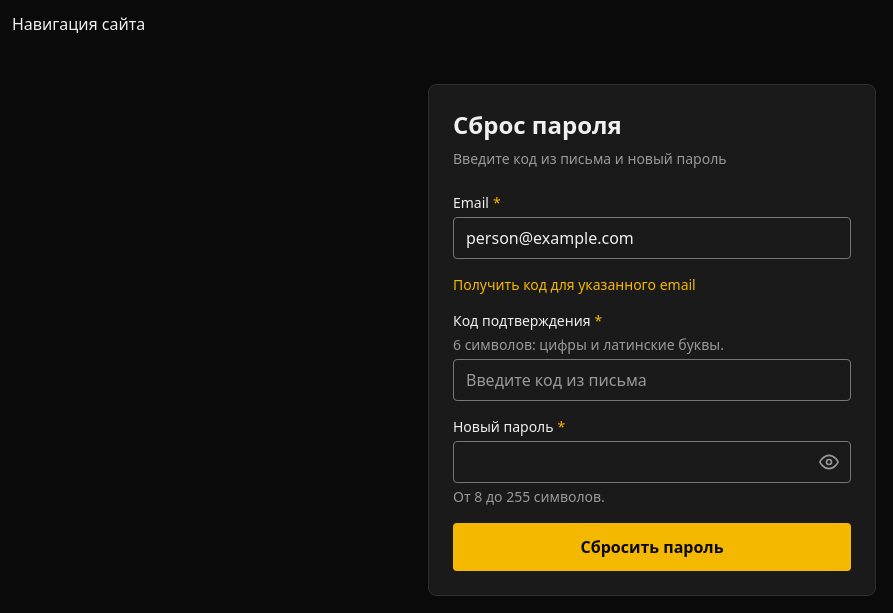
auth completion and retained context › keeps an external focus when password reset completes after the user left the form
In the field with id "reset-code": point(652, 380) [453,359,851,401], type "a1b2c3"
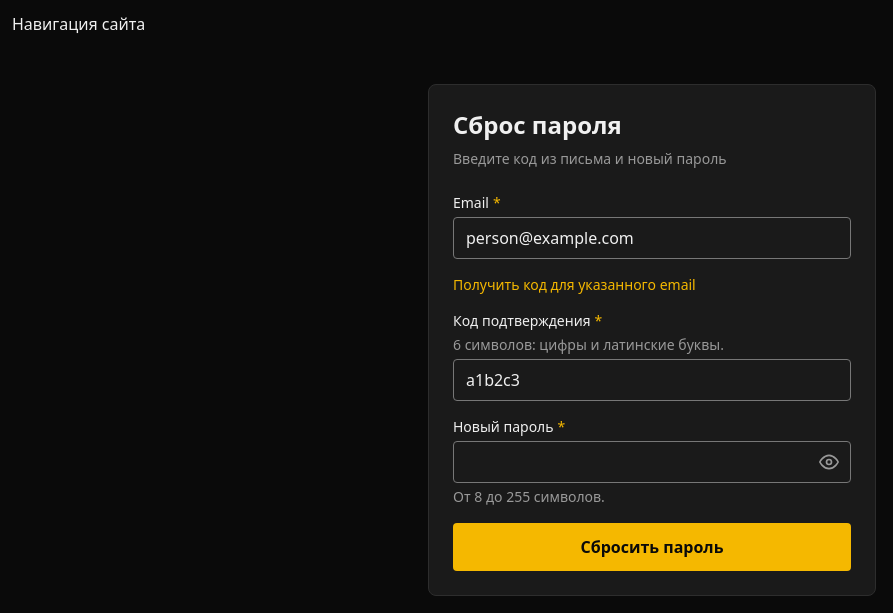
In the password field with id "reset-new-password": point(652, 462) [453,441,851,483], type "password123"
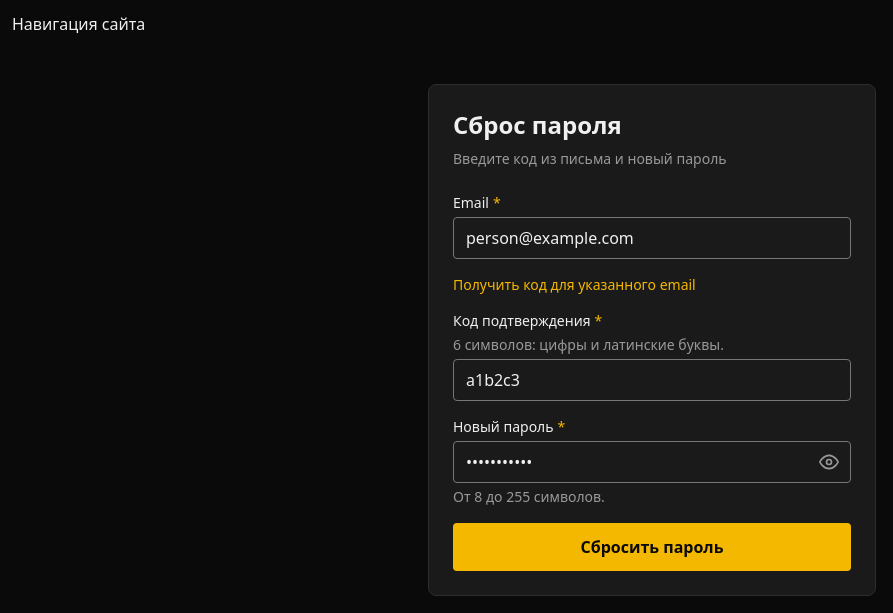
Submit the form, box [453,193,851,571]
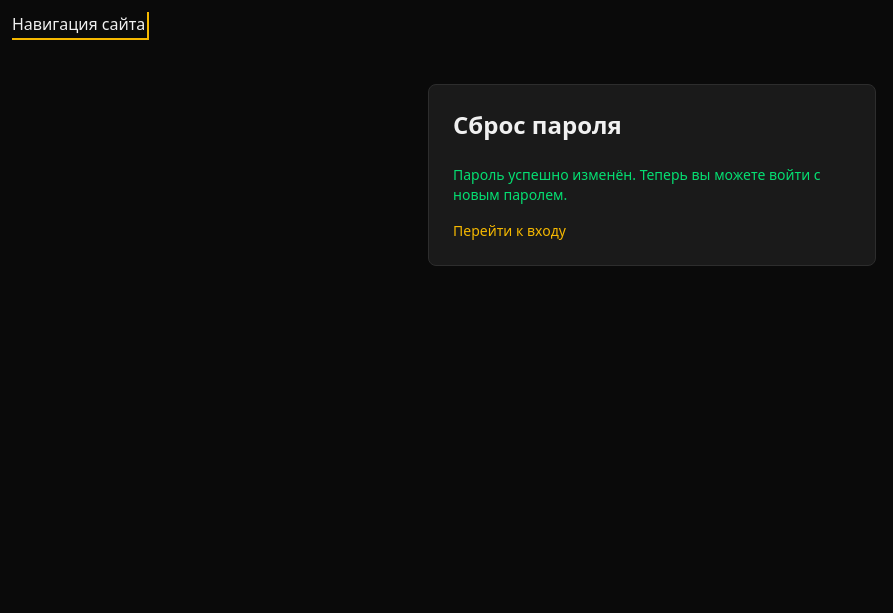
Check: the link "Перейти к входу" is shown, box [453,221,566,240]
